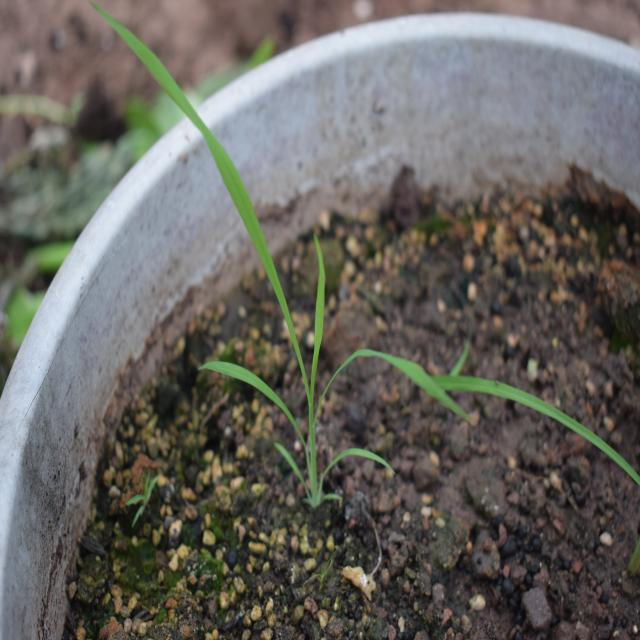barnyard_grass: (125, 26, 458, 530)
